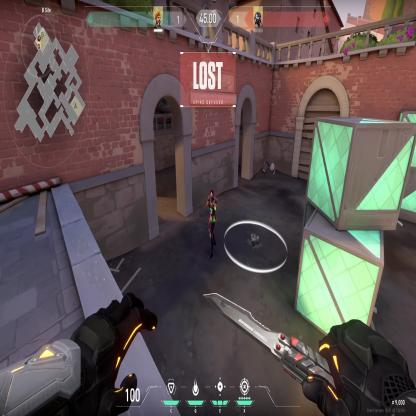enemy: (206, 187, 218, 261)
